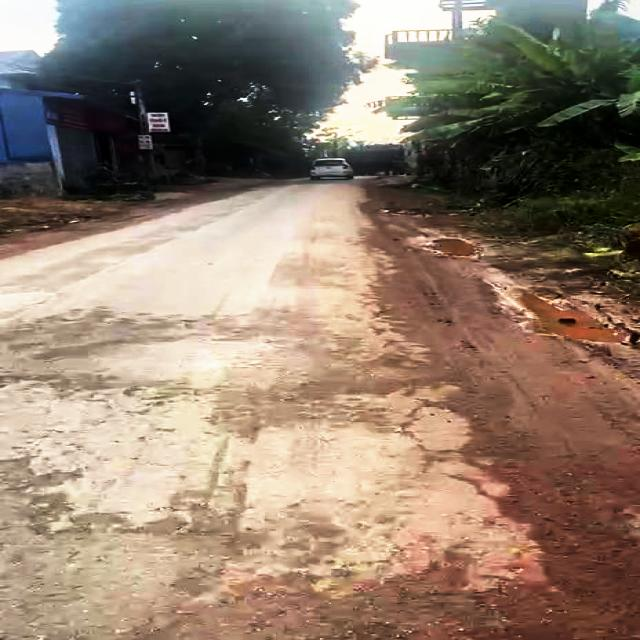pothole: (499, 279, 633, 347), (412, 234, 482, 260)
